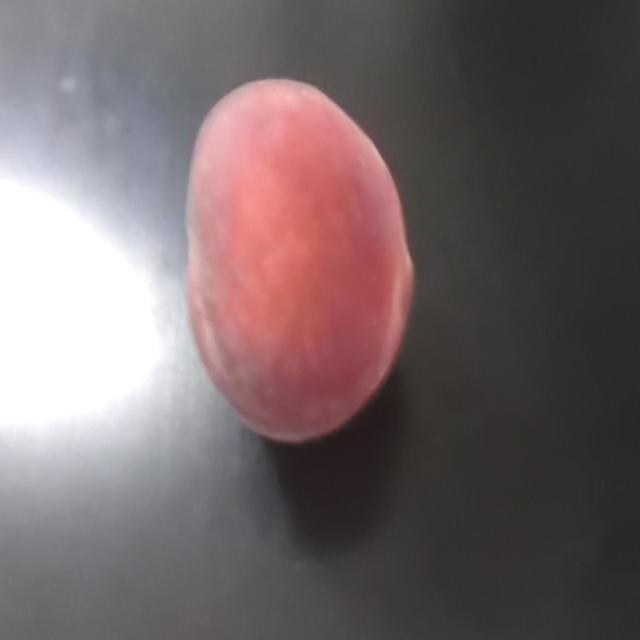Persik: (173, 21, 444, 468)
